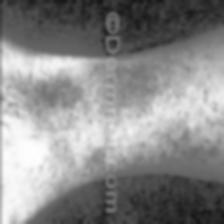Non-Cancerous Skin Condition: (0, 41, 101, 224), (120, 34, 224, 176)
